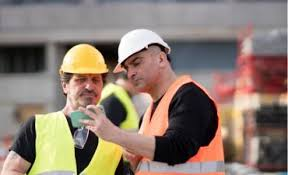helmet: (117, 32, 169, 58), (63, 46, 107, 73)
vest: (137, 92, 227, 172), (35, 114, 119, 175)
